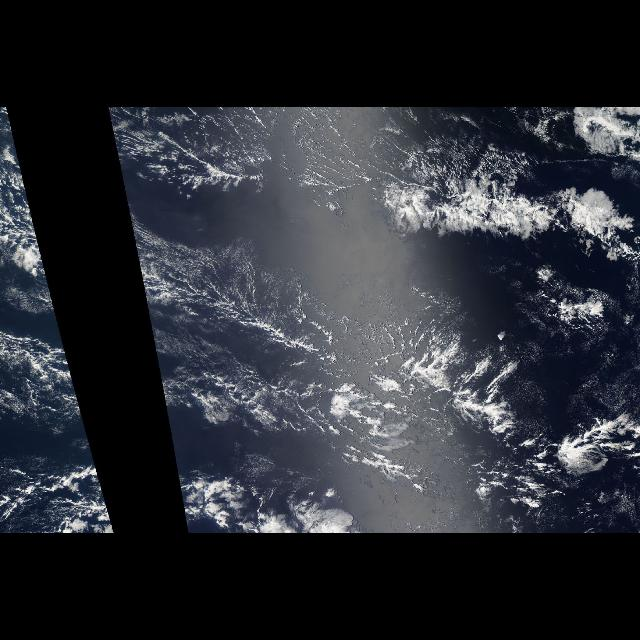Fish: (137, 120, 638, 464)
Sugar: (124, 194, 360, 356)
